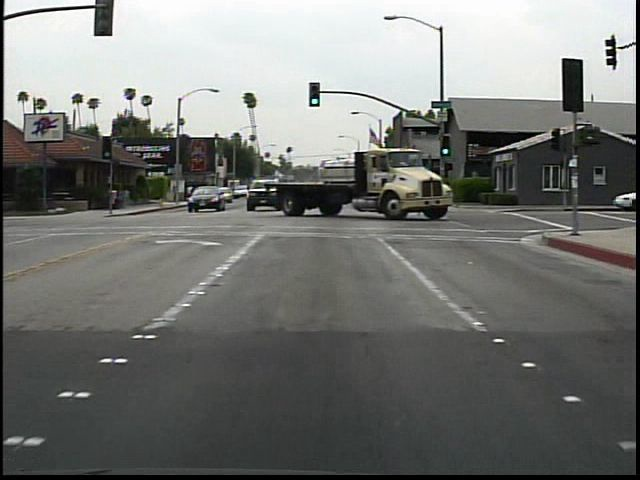person: (183, 182, 200, 206)
